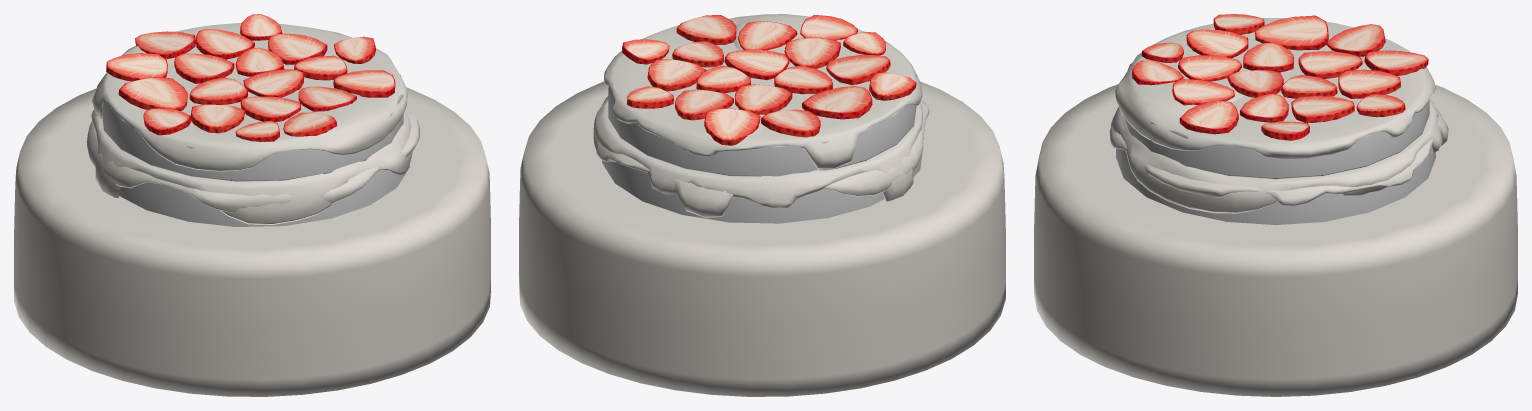
The picture shows the model from 3 angles, left to right: view 1: azimuth 30°, elevation 25°; view 2: azimuth 150°, elevation 25°; view 3: azimuth 270°, elevation 25°; orthographic projection. The views are drawn at different scales.
Parts seen in each view (by area): view 1: pPlane64; view 2: pPlane64; view 3: pPlane64.
Part boxes in pixels (x1,y1,x2,y2): pPlane64: (14, 14, 490, 396); pPlane64: (519, 14, 1005, 396); pPlane64: (1034, 14, 1517, 396).
Bounding box in the file's own units: 31.06 × 15.9 × 31.06.
